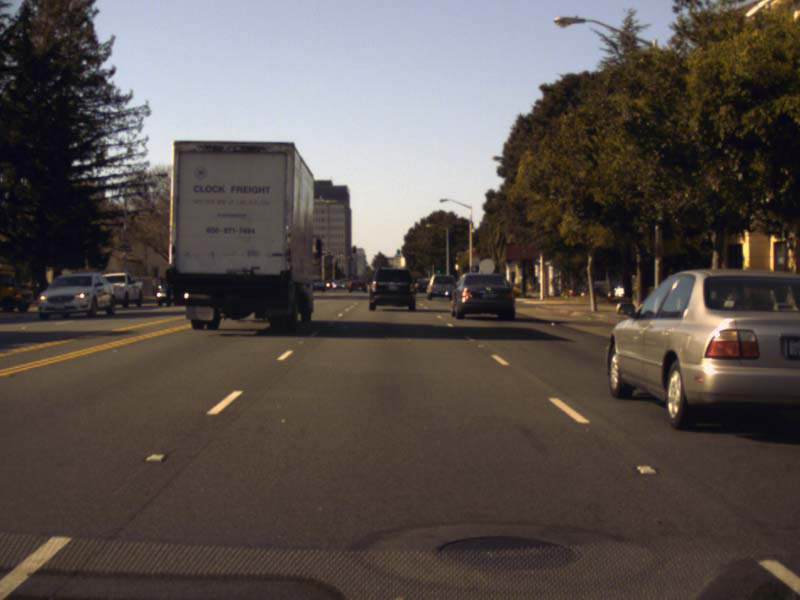Green: (436, 266, 440, 274), (397, 249, 400, 256)
